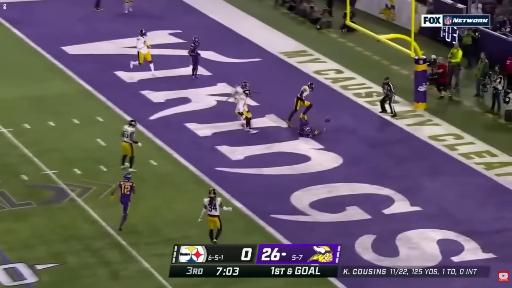Helmet: (307, 82, 315, 91), (242, 80, 249, 90), (210, 188, 217, 198), (139, 28, 146, 37), (193, 37, 200, 45), (130, 120, 137, 128), (124, 174, 132, 181), (244, 90, 251, 97), (306, 129, 312, 134)
Jersey: (119, 181, 134, 203), (204, 198, 221, 216), (236, 93, 248, 112), (123, 126, 135, 143), (137, 36, 148, 54), (297, 86, 311, 100), (232, 86, 245, 99), (189, 43, 198, 56), (299, 126, 313, 133)
Player: (199, 188, 231, 243), (286, 82, 314, 126), (131, 29, 155, 75), (236, 90, 258, 133), (119, 173, 135, 231), (122, 120, 139, 171), (232, 81, 249, 126), (188, 37, 201, 79), (298, 118, 325, 138), (231, 81, 249, 99), (125, 0, 133, 13)
